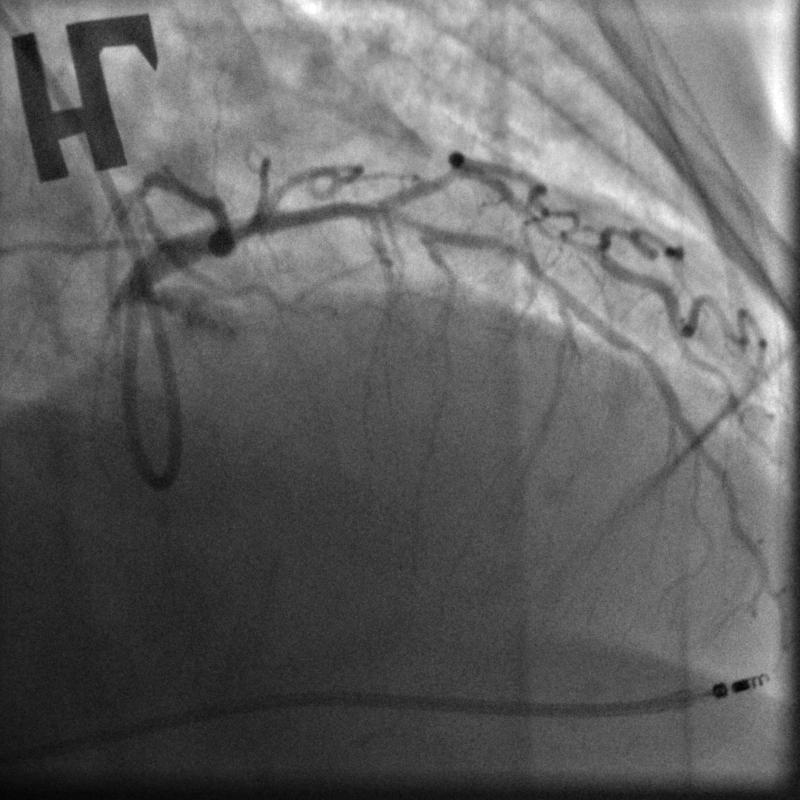Stenosis: (473, 227, 555, 278)
